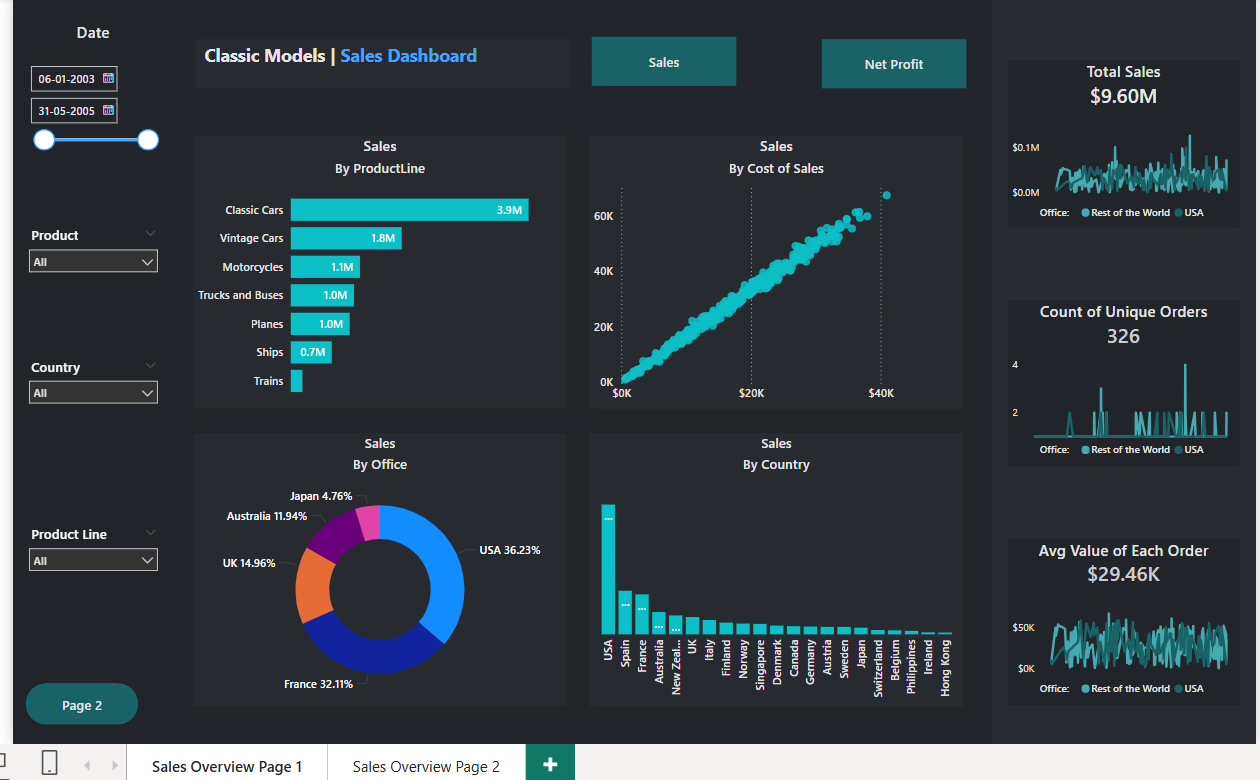

This screenshot's page, from the dashboard's own definition file:
{"tool":"powerbi","page":{"name":"Sales Overview Page 1","canvas":[1500,900],"ordinal":0},"visuals":[{"type":"shape","box":[1180.1,0,319.5,901.2],"z":1000},{"type":"shape","box":[1200.4,75.4,279,200.6],"z":2000},{"type":"shape","box":[1200.4,364.2,279,200],"z":3000},{"type":"shape","box":[1200.4,653,279,200],"z":4000},{"type":"card","title":"Total Sales","fields":{"Values":["Sum(classicmodels sales_data_for_power_bi.sales_value)"]},"box":[1200.4,75.4,279,61.8],"z":5000},{"type":"card","title":"Count of Unique Orders","fields":{"Values":["Count(classicmodels sales_data_for_power_bi.ordernumber)"]},"box":[1200.4,364.9,279,61.8],"z":6000},{"type":"card","title":"Avg Value of Each Order","fields":{"Values":["classicmodels sales_data_for_power_bi.Avg Sales value per order"]},"box":[1200.4,652.6,279,60.9],"z":7000},{"type":"lineChart","fields":{"Category":["classicmodels sales_data_for_power_bi.orderdate.Variation.Date Hierarchy.Year"],"Y":["Sum(classicmodels sales_data_for_power_bi.sales_value)"],"Series":["classicmodels sales_data_for_power_bi.Office groups"]},"box":[1200.4,138.6,279,138.6],"z":8000},{"type":"lineChart","fields":{"Category":["classicmodels sales_data_for_power_bi.orderdate.Variation.Date Hierarchy.Year"],"Series":["classicmodels sales_data_for_power_bi.Office groups"],"Y":["Count(classicmodels sales_data_for_power_bi.ordernumber)"]},"box":[1200.4,427.8,279,135.3],"z":9000},{"type":"lineChart","fields":{"Category":["classicmodels sales_data_for_power_bi.orderdate.Variation.Date Hierarchy.Year"],"Series":["classicmodels sales_data_for_power_bi.Office groups"],"Y":["classicmodels sales_data_for_power_bi.Avg Sales value per order"]},"box":[1200.4,716.9,279,135.3],"z":10000},{"type":"clusteredBarChart","fields":{"Category":["classicmodels sales_data_for_power_bi.productLine"],"Y":["Table.Selected Metric"]},"box":[217.5,165.9,451,329],"z":11000},{"type":"actionButton","box":[698.3,47.3,174.1,59.2],"z":12000},{"type":"actionButton","box":[975.6,49,174.1,59.2],"z":13000},{"type":"scatterChart","fields":{"Category":["classicmodels sales_data_for_power_bi.ordernumber"],"Y":["Table.Selected Metric"],"X":["Sum(classicmodels sales_data_for_power_bi.cost_of_sales)"]},"box":[695.6,165.7,451.4,329.7],"z":15000},{"type":"columnChart","fields":{"Y":["Table.Selected Metric"],"Category":["classicmodels sales_data_for_power_bi.customer_country"]},"box":[695.6,524.1,451.4,329.7],"z":16000},{"type":"donutChart","fields":{"Y":["Table.Selected Metric"],"Category":["classicmodels sales_data_for_power_bi.office_country"]},"box":[217.5,524.8,451,329],"z":17000},{"type":"textbox","box":[219.8,49,451.4,59.2],"z":18000},{"type":"shape","box":[15.2,826.8,136.9,50.7],"z":18001},{"type":"slicer","title":"Date","fields":{"Values":["date dimension.orderdate"]},"box":[9,28.7,174.9,196],"z":18002},{"type":"slicer","fields":{"Values":["classicmodels sales_data_for_power_bi.productName"]},"box":[8.5,270.5,175.8,118.4],"z":18003},{"type":"slicer","fields":{"Values":["classicmodels sales_data_for_power_bi.customer_country"]},"box":[8.5,427.8,175.8,118.4],"z":18004},{"type":"slicer","fields":{"Values":["classicmodels sales_data_for_power_bi.productLine"]},"box":[8.5,630.6,175.8,118.4],"z":18005}]}

Visuals, with their boxes on the page's 1500x900 design canvas (x1, y1, x2, y2). These are canvas units, not pixel positions in the 1260x780 screenshot, which may show the page scaled, cropped or inside an application window:
shape: box=[1180, 0, 1500, 901]
shape: box=[1200, 75, 1479, 276]
shape: box=[1200, 364, 1479, 564]
shape: box=[1200, 653, 1479, 853]
"Total Sales" card: box=[1200, 75, 1479, 137]
"Count of Unique Orders" card: box=[1200, 365, 1479, 427]
"Avg Value of Each Order" card: box=[1200, 653, 1479, 714]
lineChart - classicmodels sales_data_for_power_bi.orderdate.Variation.Date Hierarchy.Year x Sum(classicmodels sales_data_for_power_bi.sales_value): box=[1200, 139, 1479, 277]
lineChart - classicmodels sales_data_for_power_bi.orderdate.Variation.Date Hierarchy.Year x classicmodels sales_data_for_power_bi.Office groups: box=[1200, 428, 1479, 563]
lineChart - classicmodels sales_data_for_power_bi.orderdate.Variation.Date Hierarchy.Year x classicmodels sales_data_for_power_bi.Office groups: box=[1200, 717, 1479, 852]
clusteredBarChart - classicmodels sales_data_for_power_bi.productLine x Table.Selected Metric: box=[218, 166, 668, 495]
actionButton: box=[698, 47, 872, 106]
actionButton: box=[976, 49, 1150, 108]
scatterChart - classicmodels sales_data_for_power_bi.ordernumber x Table.Selected Metric: box=[696, 166, 1147, 495]
columnChart - Table.Selected Metric x classicmodels sales_data_for_power_bi.customer_country: box=[696, 524, 1147, 854]
donutChart - Table.Selected Metric x classicmodels sales_data_for_power_bi.office_country: box=[218, 525, 668, 854]
textbox: box=[220, 49, 671, 108]
shape: box=[15, 827, 152, 878]
"Date" slicer: box=[9, 29, 184, 225]
slicer - classicmodels sales_data_for_power_bi.productName: box=[8, 270, 184, 389]
slicer - classicmodels sales_data_for_power_bi.customer_country: box=[8, 428, 184, 546]
slicer - classicmodels sales_data_for_power_bi.productLine: box=[8, 631, 184, 749]
